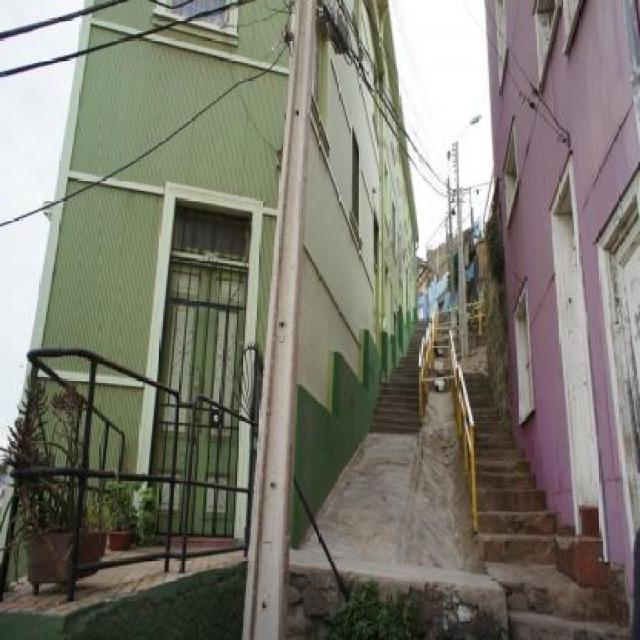stair: (457, 368, 560, 563), (364, 316, 434, 432)
